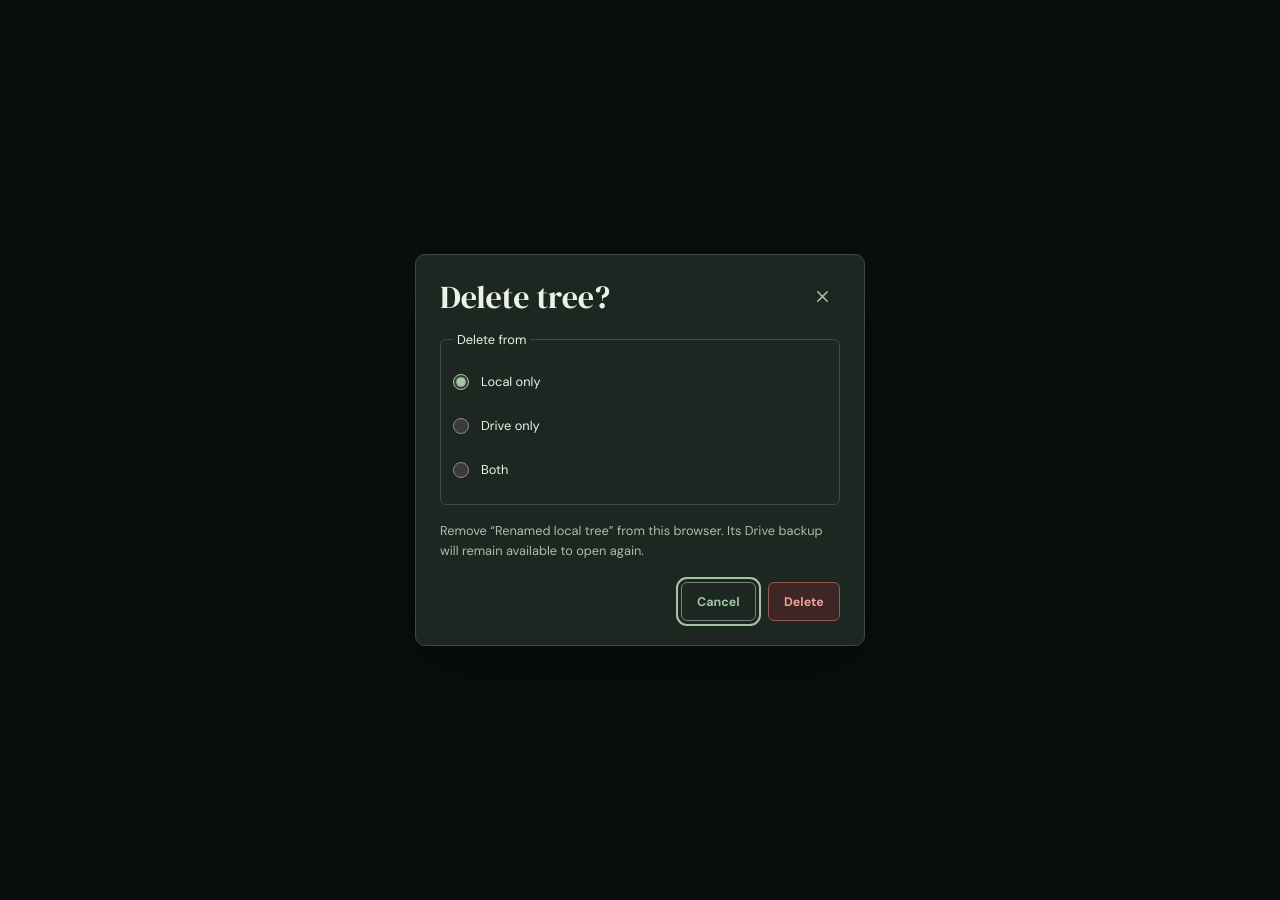
Test: Workspace deletion confirmation › identifies the correct copies for drive deletion after a local rename
What coordinates should you click on to do the following:
click the radio button labelled "Drive only"
I would click on:
 (461, 426)
Its box is top-left (453, 418), bottom-right (469, 434).
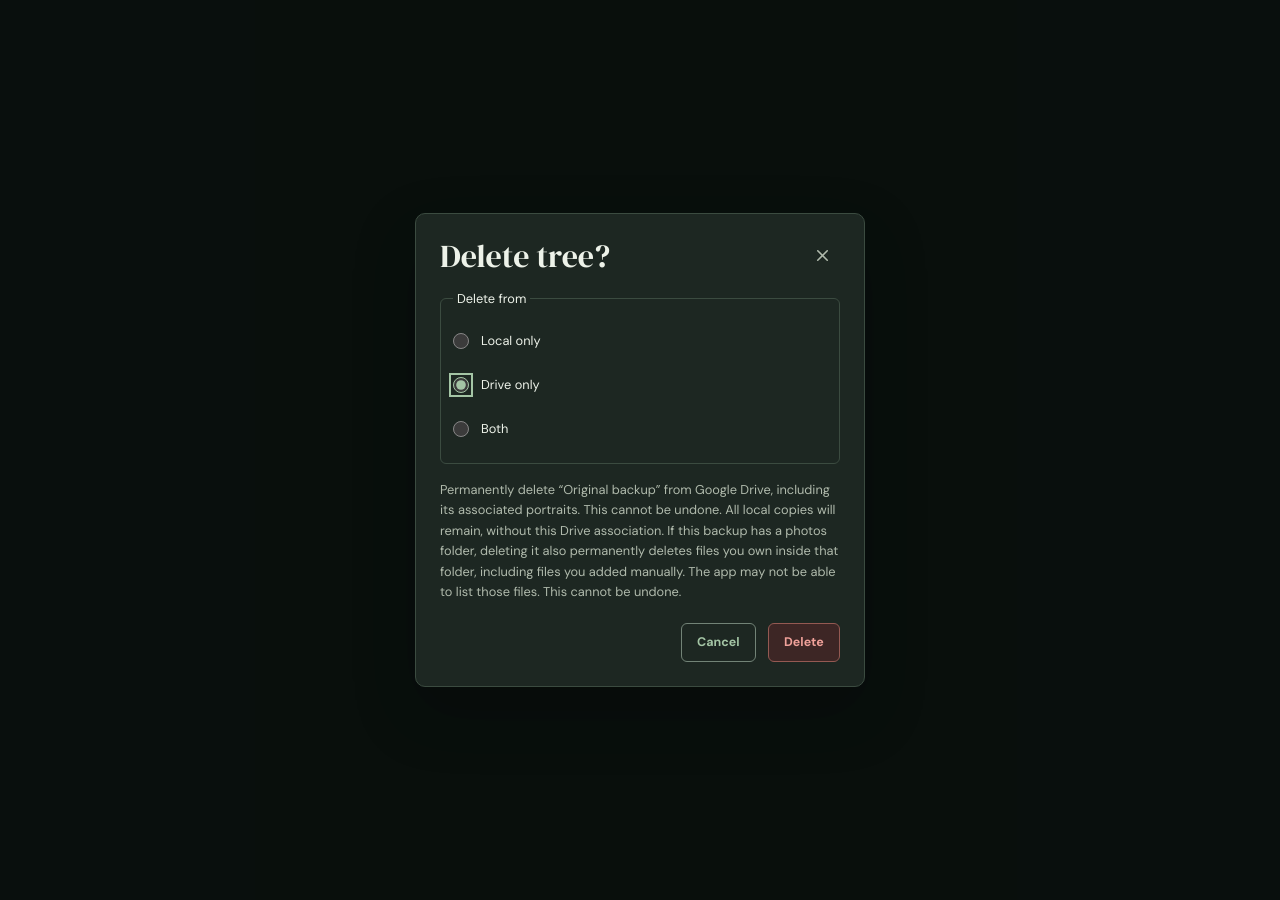
Expected: the text "“Original backup” from Google Drive" is shown, top-left (440, 481), bottom-right (838, 600)
Expected: the text "Renamed local tree" is gone
